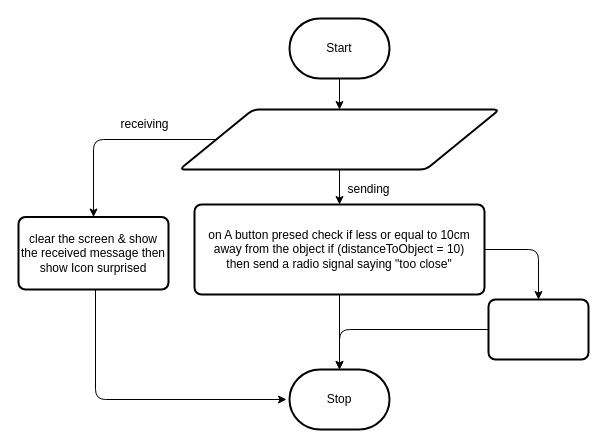
The diagram is 606 pixels wide and 447 high, and some of its shapes have lost their labels. Each missing label, with the centre of its shape:
else send a message saying "test": point (538, 329)
let the distance to object number = 0 set the radio group to (7) show Icon duck: point (339, 139)
